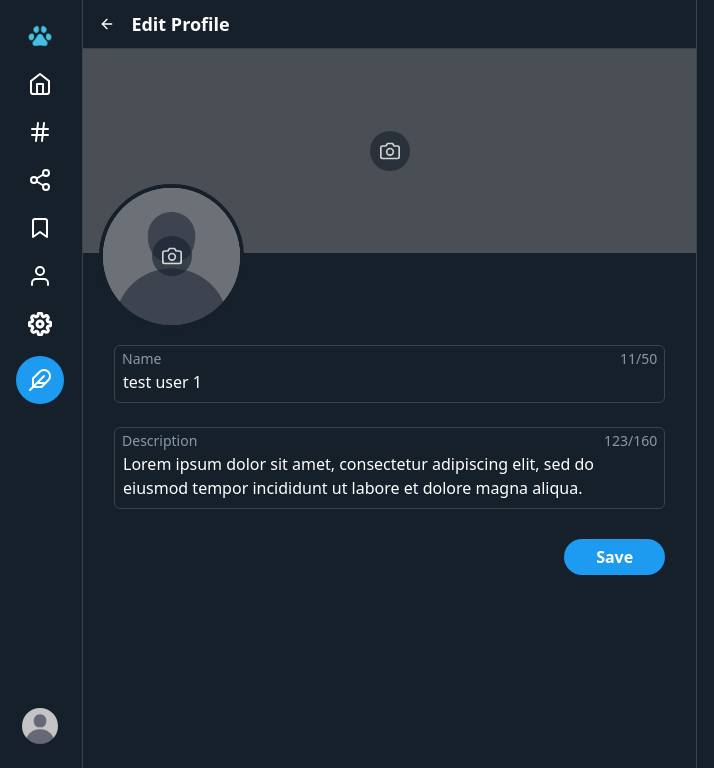
/settings/edit-profile › should display validation errors
The image size is (714, 768).
Click the button "Save".
click(615, 557)  # box [564,539,665,575]
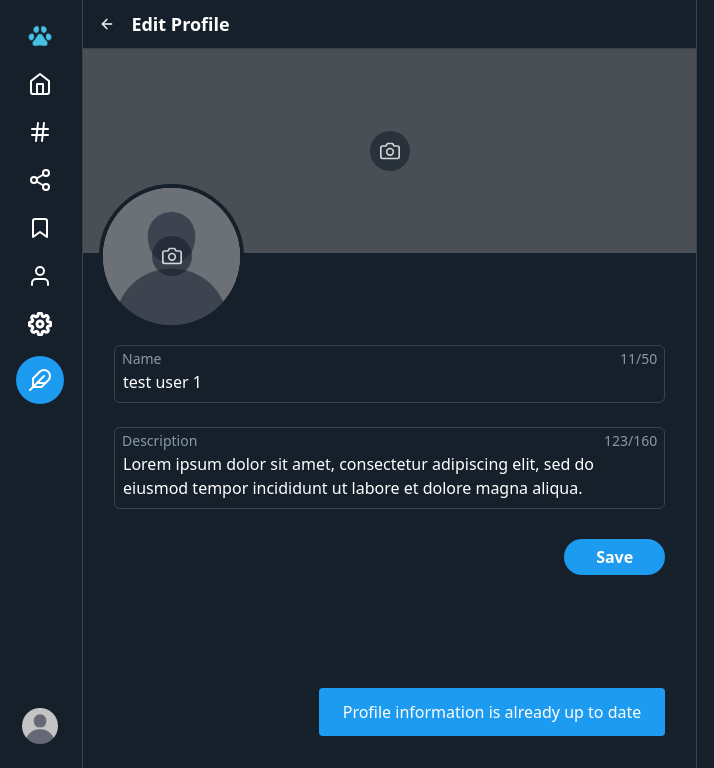
Now the text "Profile information is already up to date" is shown, box [319,688,665,736]
Clear the field with id "name" at (390, 374), box [114,345,665,403]
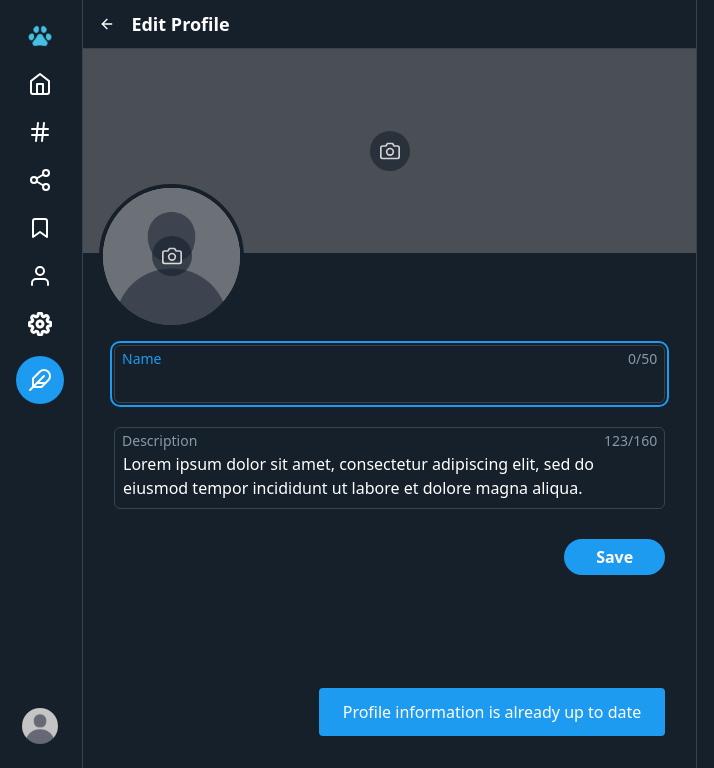
Click the button "Save".
click(615, 557)  # box [564,539,665,575]
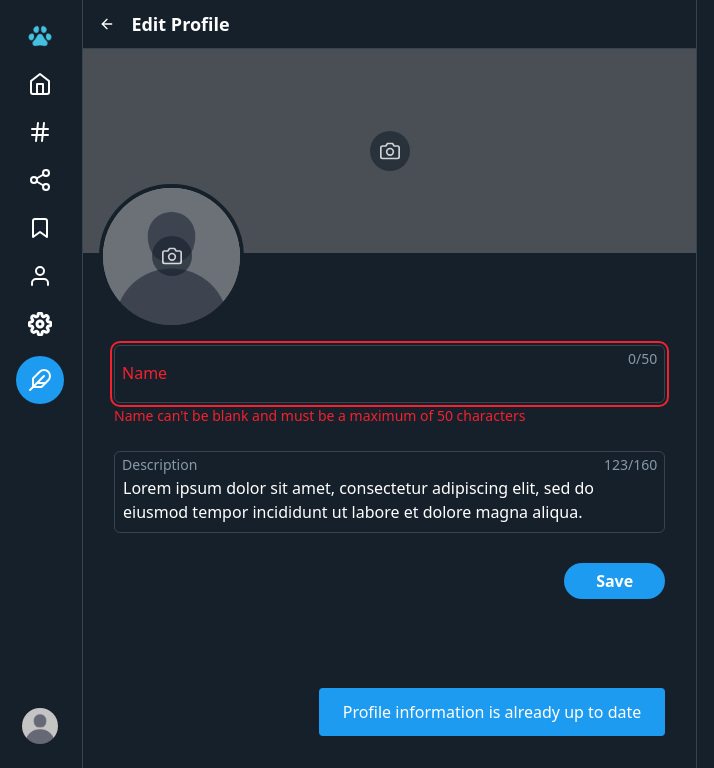
Now the text "Name can't be blank and must be a maximum of 50 characters" is shown, box [114,406,525,425]
